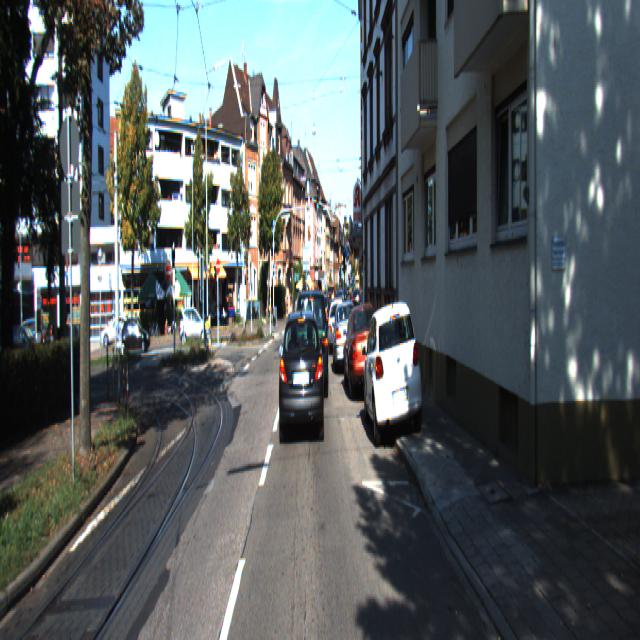Car: (362, 294, 423, 452), (278, 300, 324, 444), (343, 302, 383, 406), (294, 283, 328, 401), (332, 298, 359, 376), (119, 315, 150, 356), (179, 306, 207, 346)
